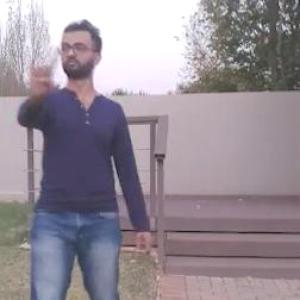takeoff-hand: (22, 44, 60, 104)
